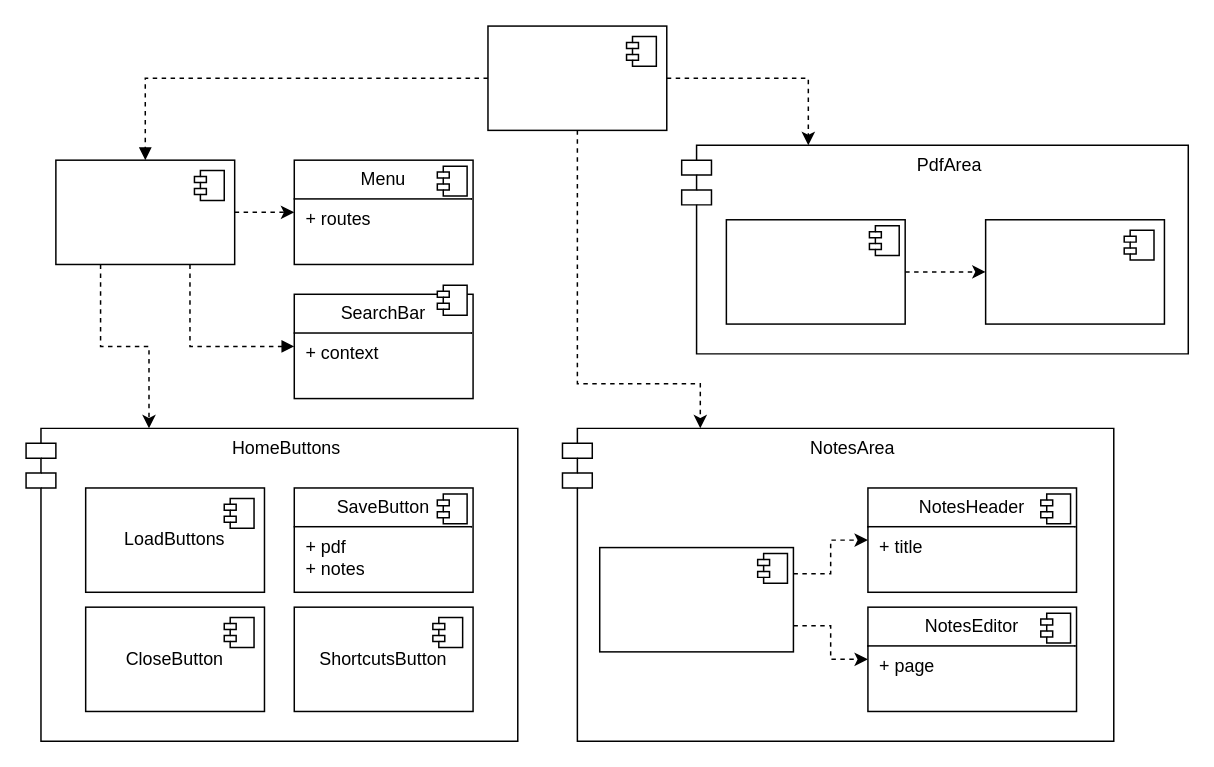
Image size: 1214x767. Some labels were removed from this diagram. The centre of each missing label's shape, as x and y in pixels:
"Header" goes at (x=144, y=211).
"HomePage" goes at (x=576, y=77).
"NotesPanel + notes" goes at (x=695, y=599).
"PdfToolbar" goes at (x=1074, y=271).
"PdfViewer + pdf" goes at (x=815, y=271).
